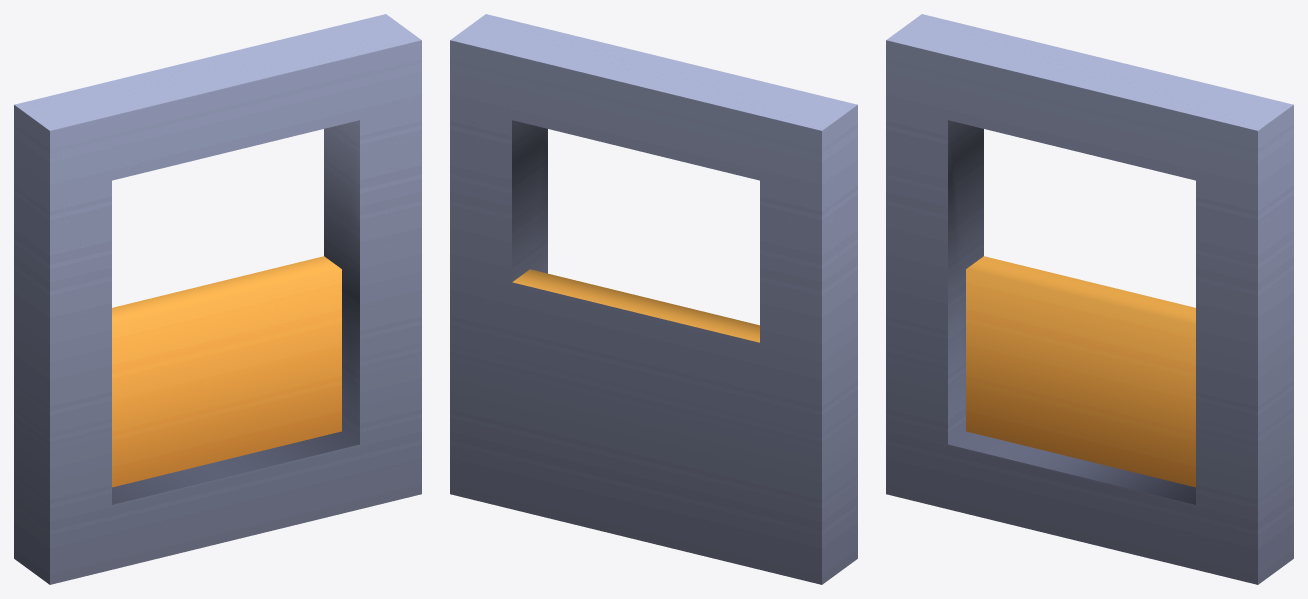
The model's file is door-double-half.glb.
The picture shows the model from 3 angles, left to right: view 1: azimuth 30°, elevation 25°; view 2: azimuth 150°, elevation 25°; view 3: azimuth 330°, elevation 25°; orthographic projection.
Visible parts, largest first — view 1: door-double-half; view 2: door-double-half; view 3: door-double-half.
Part boxes in pixels (x1,y1,x2,y2): door-double-half: (14, 14, 421, 584); door-double-half: (450, 14, 857, 584); door-double-half: (886, 14, 1293, 584).
Size of the model in its own units: 0.6 by 0.7 by 0.1.
1 material, 1 textured.
